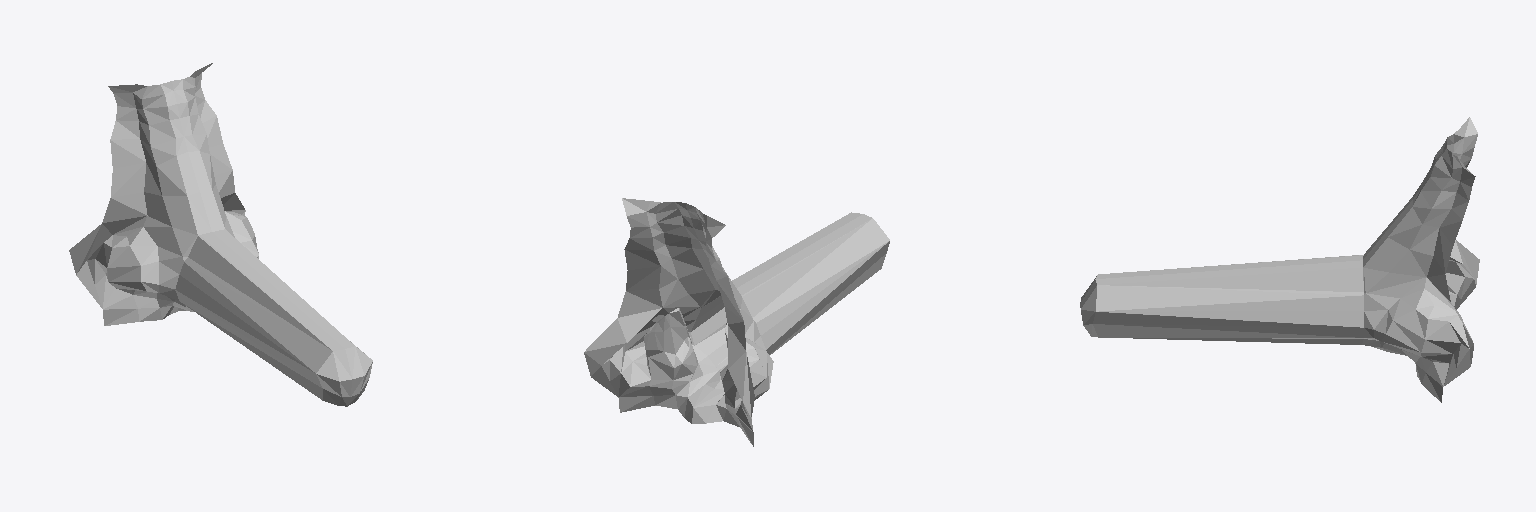
Rendered from nose5.obj.
3 renders of one model, left to right at view 1: azimuth 30°, elevation 25°; view 2: azimuth 150°, elevation 25°; view 3: azimuth 270°, elevation 25°, orthographic.
Parts seen in each view (by area): view 1: object_1; view 2: object_1; view 3: object_1.
Part boxes in pixels (x1,y1,x2,y2): object_1: (69,63,372,406); object_1: (584,198,889,446); object_1: (1080,117,1479,402).
Size of the model in its own units: 19.86 by 24.94 by 39.54.